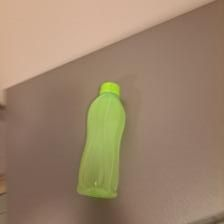bottle: (71, 79, 130, 200)
